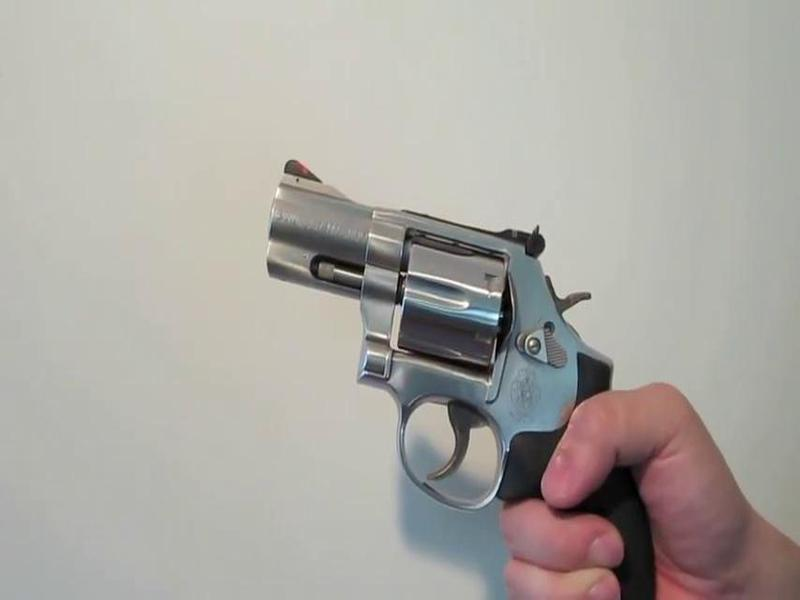Revolver: (255, 115, 694, 600)
